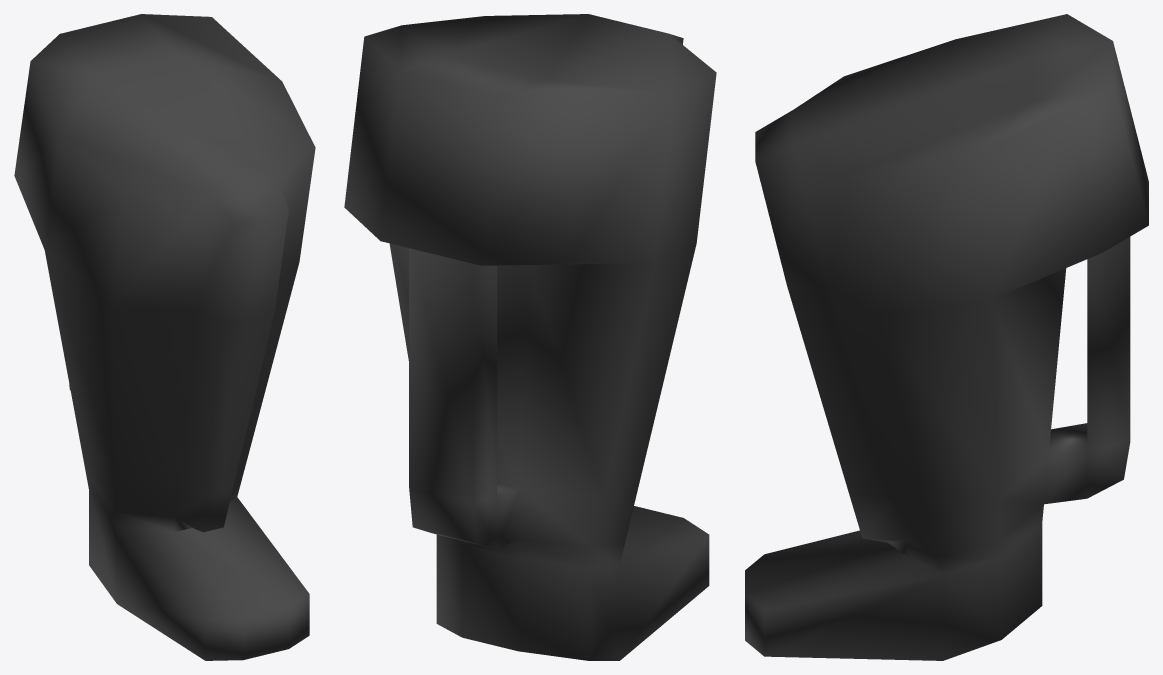
Rendered from Pies mecanicosD.fbx.
3 views of the same model, side by side, from view 1: azimuth 30°, elevation 25°; view 2: azimuth 150°, elevation 25°; view 3: azimuth 270°, elevation 25° (orthographic). The views are drawn at different scales.
Parts seen in each view (by area): view 1: Pies mecanicosD; view 2: Pies mecanicosD; view 3: Pies mecanicosD.
Part boxes in pixels (<box>): Pies mecanicosD: <box>14,14,315,660</box>; Pies mecanicosD: <box>344,14,716,660</box>; Pies mecanicosD: <box>745,14,1148,660</box>.
Size of the model in its own units: 11.68 by 25.66 by 16.61.
